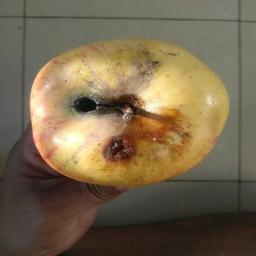Bad_apple: (28, 39, 230, 186)
